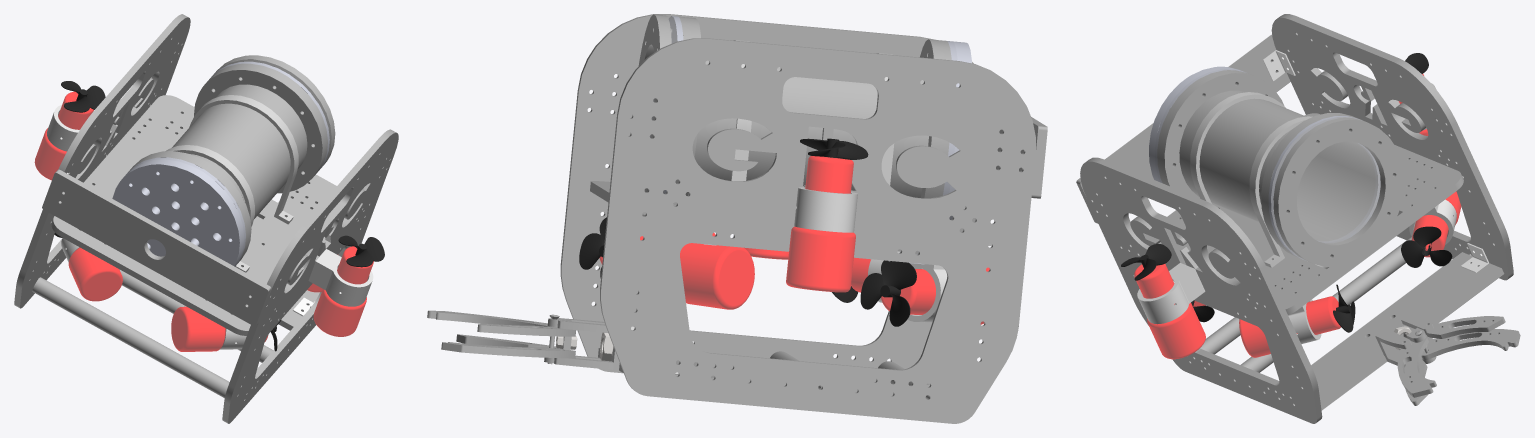
File: Atlas.glb
The picture shows the model from 3 angles, left to right: view 1: azimuth 30°, elevation 25°; view 2: azimuth 150°, elevation 25°; view 3: azimuth 270°, elevation 25°; orthographic projection. The views are drawn at different scales.
Visible parts, largest first — view 1: tube controlbox 3, verticalplate 4, horizntal plate 4, tether large, verticalplate 4.001, cap with gland, rod fixed, MOTOR bilgepump.005, MOTOR bilgepump.003, MOTOR bilgepump.002, fixed control box new, fixed motor new large.001 (+12 smaller); view 2: verticalplate 4.001, verticalplate 4, tube controlbox 3, MOTOR bilgepump.004, MOTOR bilgepump.001, fixed motor new large.002, prop.ipt.004, pnumatic gripper1-2.001, pistion fix., MOTOR bilgepump.003, flannga large4, prop.ipt.005 (+6 smaller); view 3: verticalplate 4, tube controlbox 3, verticalplate 4.001, flannga large4, horizntal plate 4, fixeed griper, lens 222, MOTOR bilgepump.005, tether large, fixed motor new large.001, rod fixed.001, MOTOR bilgepump (+18 smaller).
Part boxes in pixels (x1,y1,x2,y2): tube controlbox 3: [128, 63, 327, 262]; verticalplate 4: [222, 129, 398, 423]; horizntal plate 4: [51, 95, 344, 335]; tether large: [42, 169, 271, 326]; verticalplate 4.001: [14, 14, 190, 308]; cap with gland: [112, 159, 244, 266]; rod fixed: [32, 277, 229, 397]; MOTOR bilgepump.005: [313, 246, 373, 336]; MOTOR bilgepump.003: [68, 247, 122, 301]; MOTOR bilgepump.002: [171, 306, 268, 351]; fixed control box new: [189, 95, 298, 224]; fixed motor new large.001: [308, 249, 373, 306]; verticalplate 4.001: [600, 38, 1035, 423]; verticalplate 4: [560, 14, 973, 395]; tube controlbox 3: [675, 16, 951, 198]; MOTOR bilgepump.004: [786, 156, 855, 292]; MOTOR bilgepump.001: [680, 243, 754, 309]; fixed motor new large.002: [794, 185, 857, 232]; prop.ipt.004: [860, 260, 916, 326]; pnumatic gripper1-2.001: [441, 342, 575, 358]; pistion fix.: [554, 318, 619, 370]; MOTOR bilgepump.003: [881, 267, 989, 324]; flannga large4: [638, 14, 671, 216]; prop.ipt.005: [800, 138, 868, 159]; verticalplate 4: [1080, 157, 1322, 423]; tube controlbox 3: [1157, 70, 1375, 257]; verticalplate 4.001: [1271, 14, 1513, 280]; flannga large4: [1273, 117, 1403, 266]; horizntal plate 4: [1158, 113, 1463, 314]; fixeed griper: [1311, 252, 1504, 410]; lens 222: [1271, 117, 1380, 258]; MOTOR bilgepump.005: [1134, 264, 1205, 359]; tether large: [1076, 34, 1290, 223]; fixed motor new large.001: [1137, 263, 1205, 324]; rod fixed.001: [1241, 237, 1411, 372]; MOTOR bilgepump: [1239, 296, 1340, 357].
Bounding box in the file's own units: 0.0489 × 0.0404 × 0.0486.
